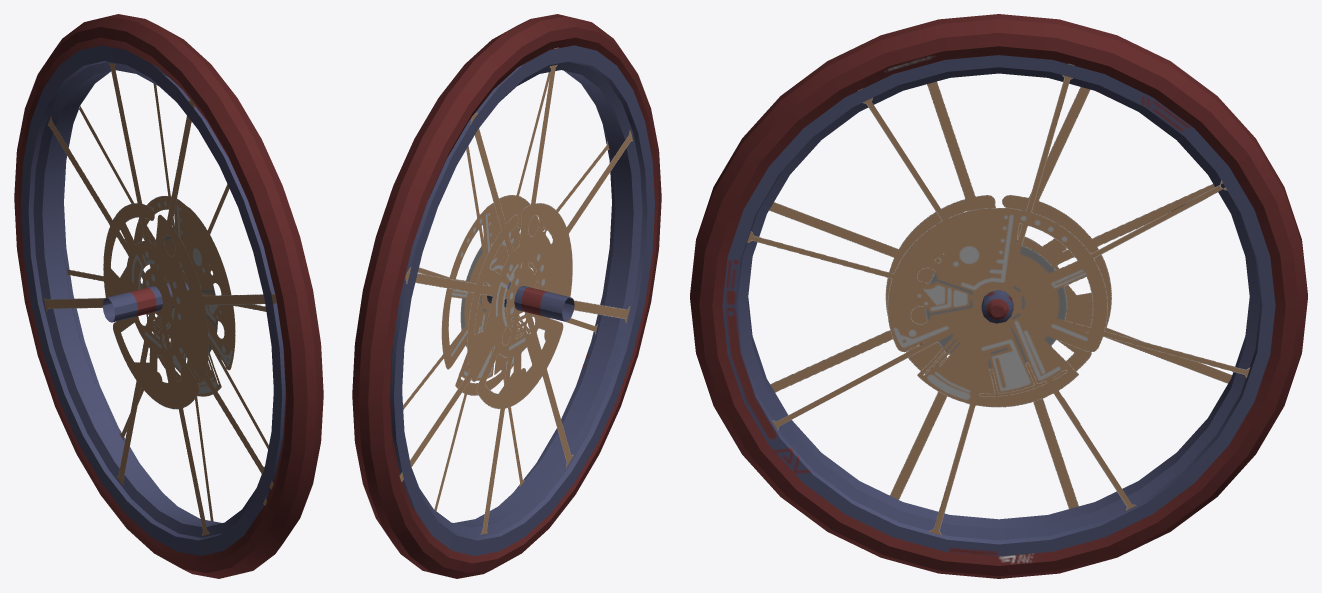
The model's file is llanta_delantera_iz.fbx.
3 views of the same model, side by side, from view 1: azimuth 30°, elevation 25°; view 2: azimuth 150°, elevation 25°; view 3: azimuth 270°, elevation 25° (orthographic). The views are drawn at different scales.
Visible parts, largest first — view 1: whe_delantera_iz; view 2: whe_delantera_iz; view 3: whe_delantera_iz.
Boxes of the visible parts, box(x1,y1,x2,y2) form: whe_delantera_iz: box(14, 14, 323, 578); whe_delantera_iz: box(352, 14, 661, 578); whe_delantera_iz: box(690, 14, 1307, 578).
Size of the model in its own units: 15.07 by 82.09 by 82.09.
